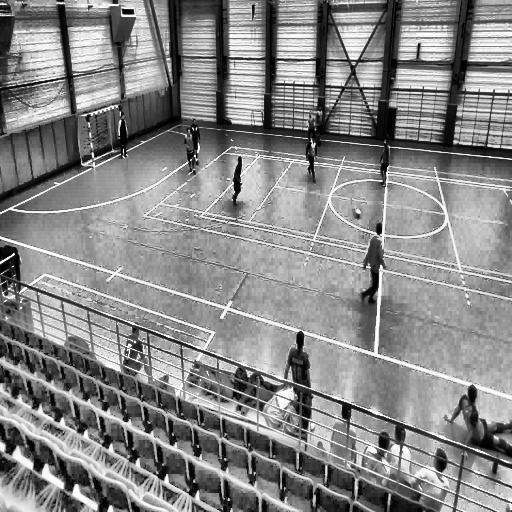ball: (354, 208, 362, 219)
player: (361, 220, 386, 308), (378, 133, 391, 188), (184, 126, 197, 176), (231, 156, 243, 207), (306, 134, 318, 185), (118, 110, 129, 160), (190, 116, 200, 167), (314, 103, 324, 148), (307, 104, 316, 144)
